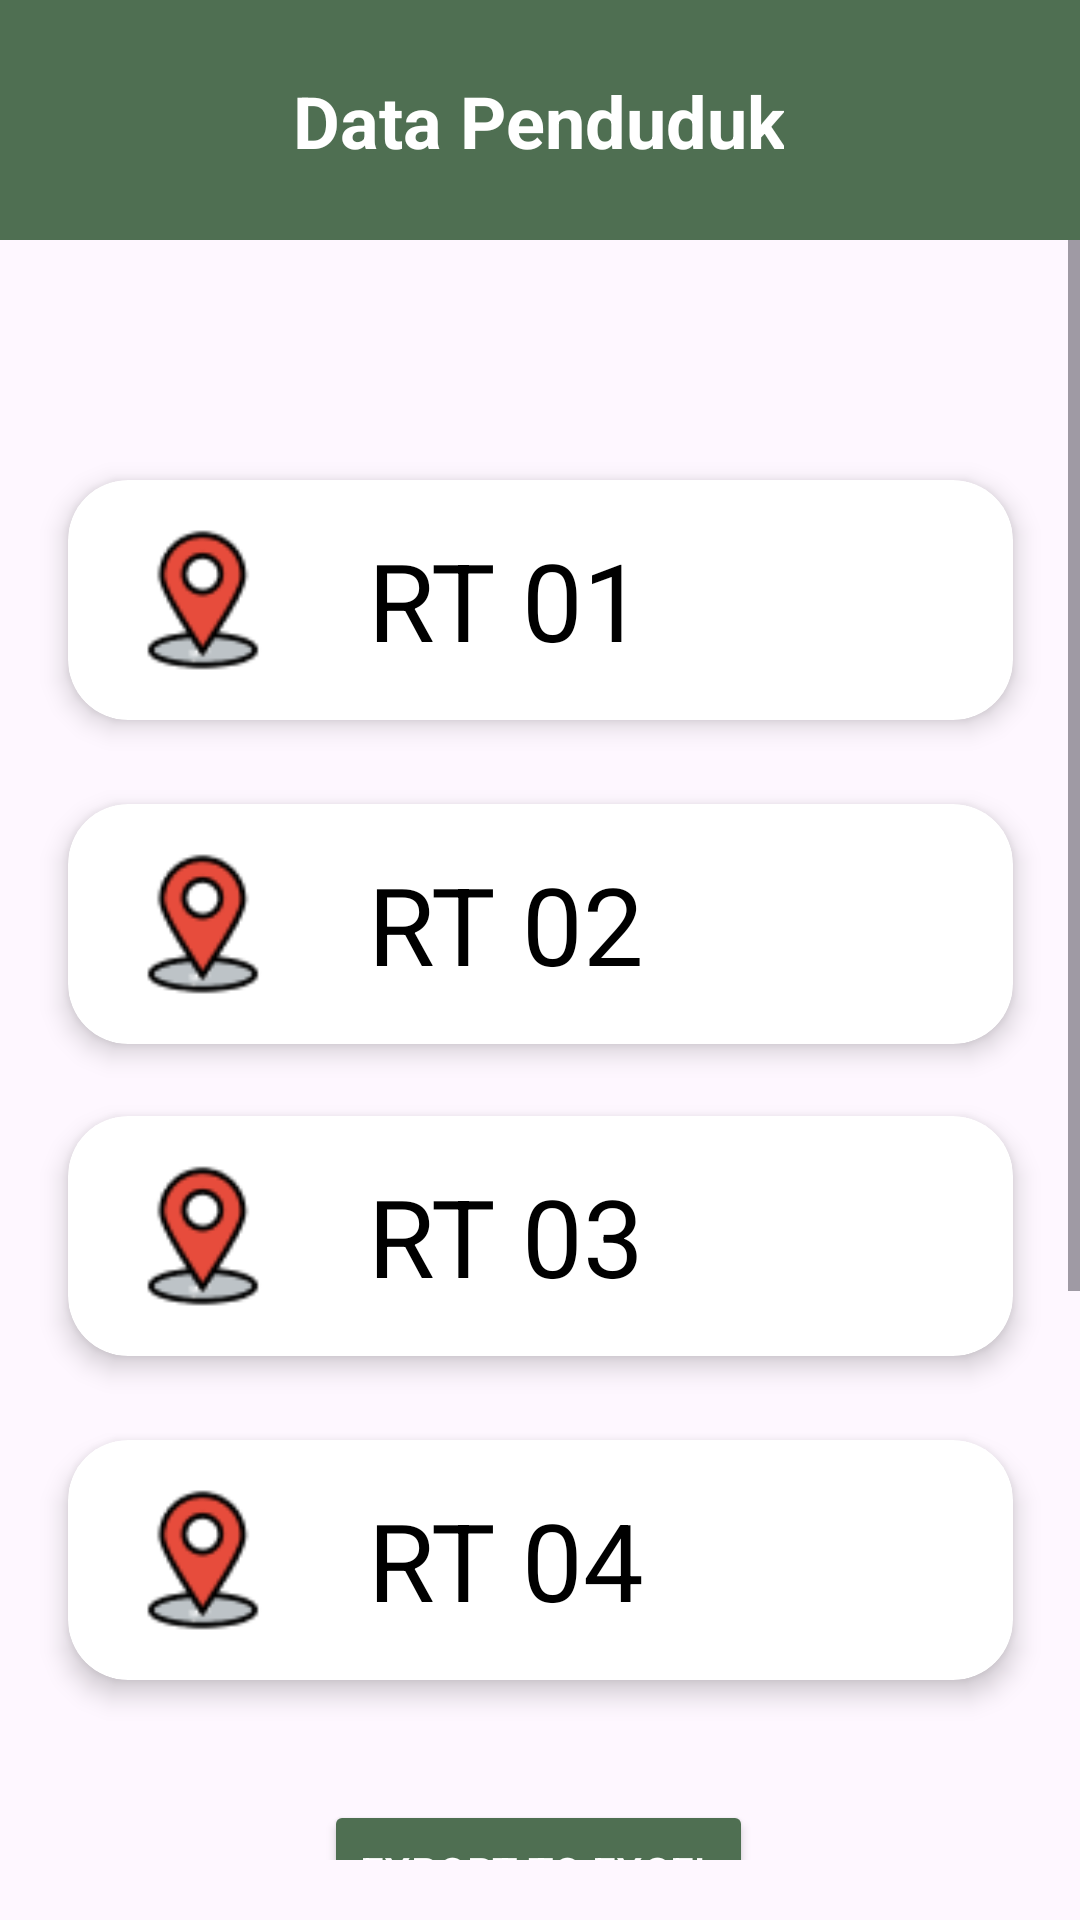

Icons on this 1080w x 1920h Android screen, each with the point to tap as point (x, y):
lokasi: point (203, 600), point (203, 924), point (203, 1236), point (203, 1560)
